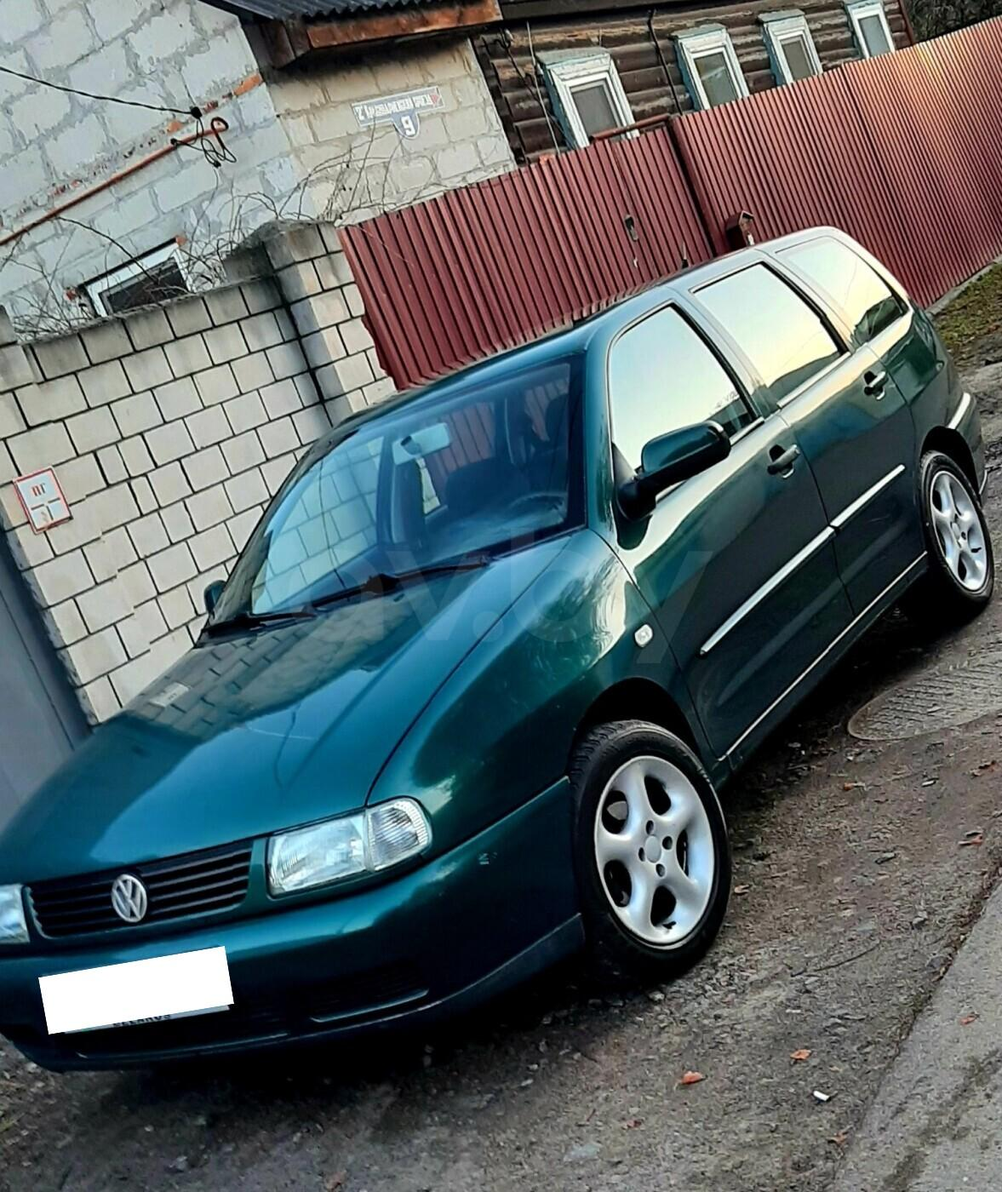Polo_1994-2002: (0, 202, 1001, 1131)
